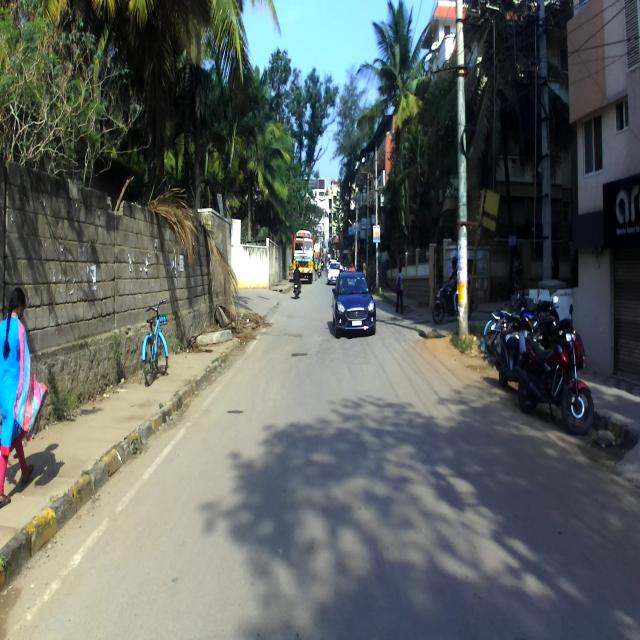bicycle ahead at: (518, 293, 598, 435), (136, 295, 171, 387)
car ahead at: (330, 265, 379, 344)
electric pole ahead at: (447, 0, 482, 357)
person ahead at: (1, 283, 44, 513)
